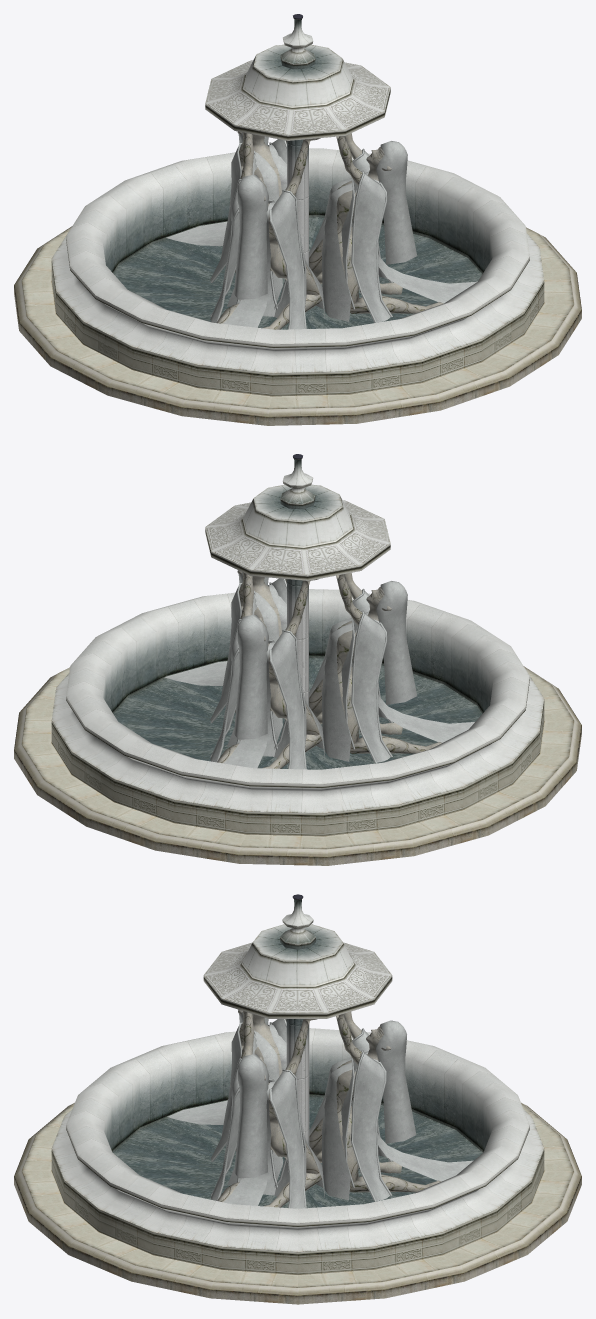
File: OBJ_fountain_001.fbx
3 views of the same model, one above another, from view 1: azimuth 30°, elevation 25°; view 2: azimuth 150°, elevation 25°; view 3: azimuth 270°, elevation 25° (orthographic).
Parts seen in each view (by area): view 1: polySurface49; view 2: polySurface49; view 3: polySurface49.
Boxes of the visible parts, left/top/right/bottom form: polySurface49: left=14, top=14, right=581, bottom=425; polySurface49: left=14, top=454, right=581, bottom=865; polySurface49: left=14, top=894, right=581, bottom=1304.
Bounding box in the file's own units: 16.57 × 9.97 × 16.57.
